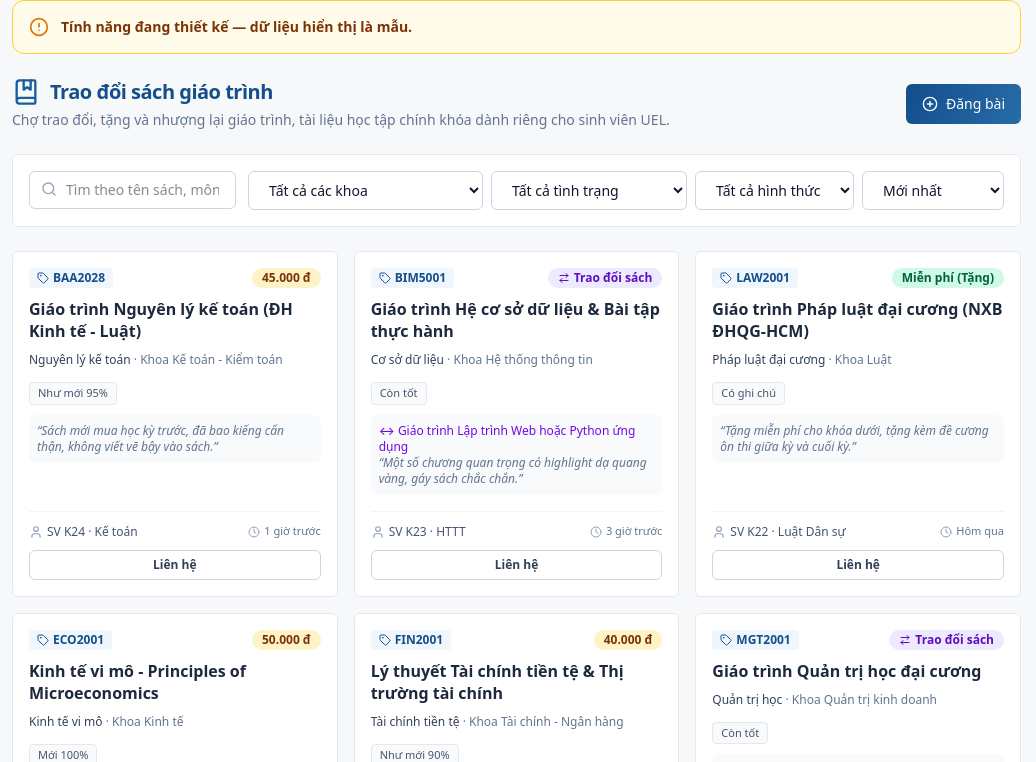
Test: W9: Trang Trao đổi sách (/books) › lọc theo tình trạng sách
Filter new (Mới 100%)
Select "Mới 100%" in the dropdown named "Tình trạng" at (589, 190), box x1=491 y1=171 x2=687 y2=210
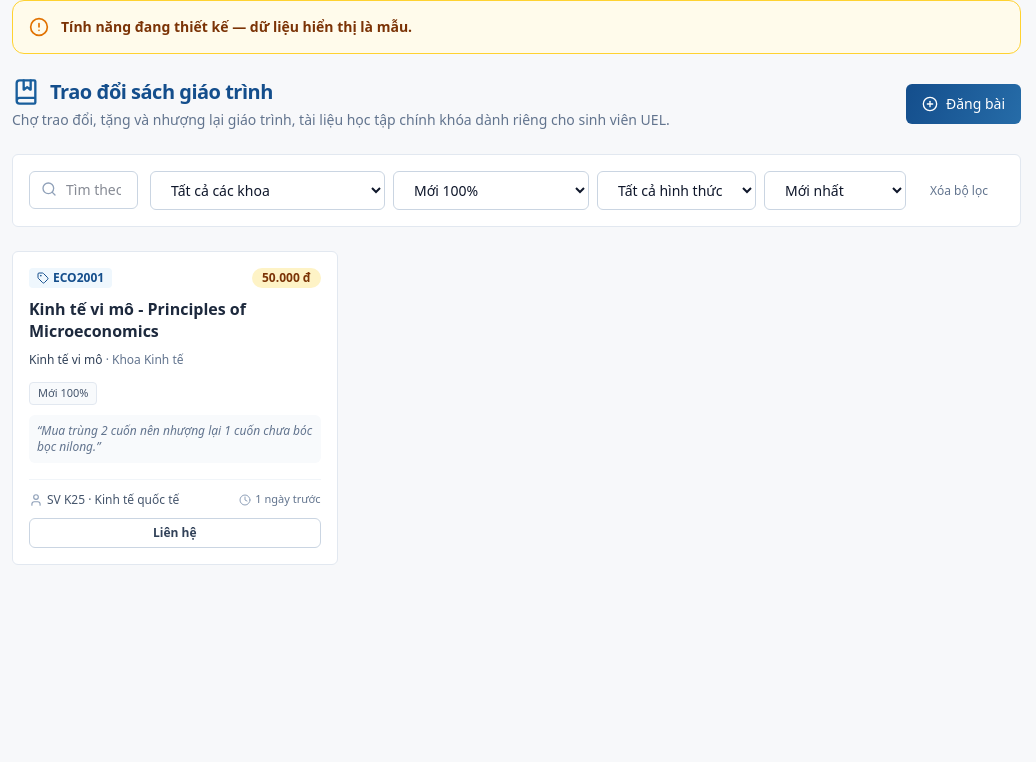
Expected: the heading "Kinh tế vi mô - Principles of Microeconomics" is shown, x1=29 y1=298 x2=246 y2=342
Result: the heading "Giáo trình Hệ cơ sở dữ liệu & Bài tập thực hành" is gone
